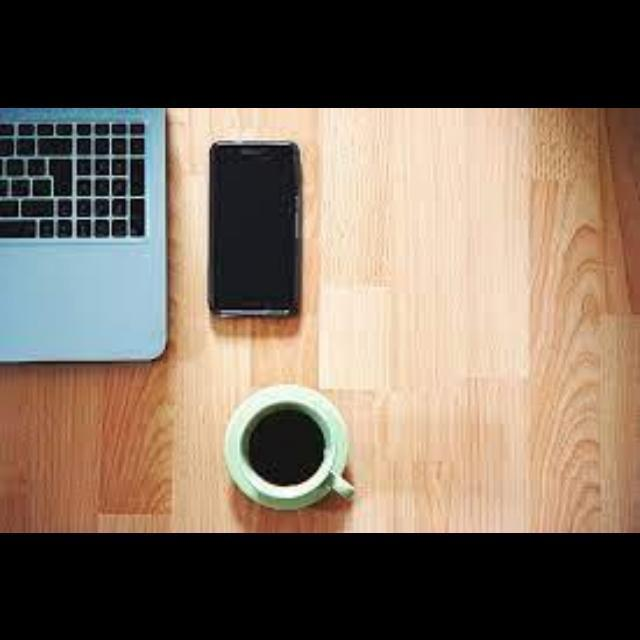phone: (208, 140, 304, 326)
